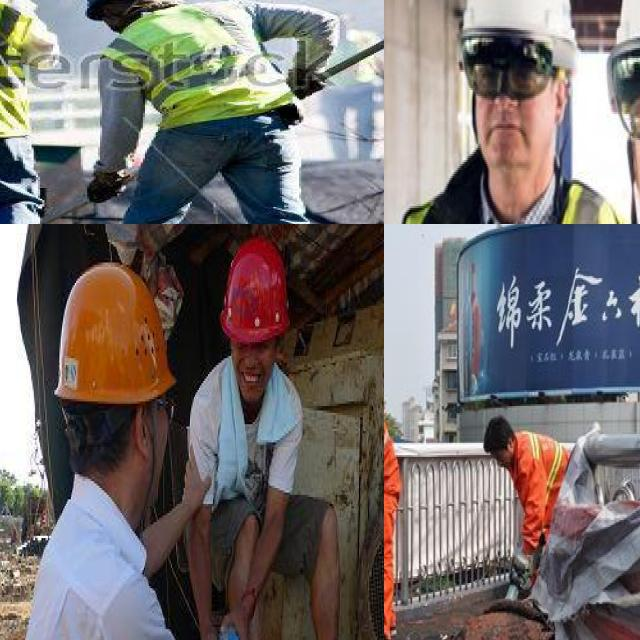No_Ear-Protection: (129, 405, 153, 467)
face_nomask: (462, 48, 558, 178), (233, 354, 275, 405), (490, 444, 512, 480)
glasses: (458, 31, 560, 105), (608, 38, 640, 144)
hand_glove: (81, 159, 132, 207), (282, 64, 333, 108), (508, 546, 530, 590)
hand_noglove: (182, 449, 212, 513), (224, 589, 258, 640)
head_helmet: (53, 251, 182, 413), (217, 233, 295, 347), (459, 0, 576, 44)
head_nohelmet: (480, 408, 513, 446)
person: (75, 0, 330, 224), (384, 0, 613, 224), (561, 0, 640, 224), (488, 415, 566, 518), (384, 364, 400, 640)
vest: (128, 12, 290, 128), (523, 434, 562, 497)
